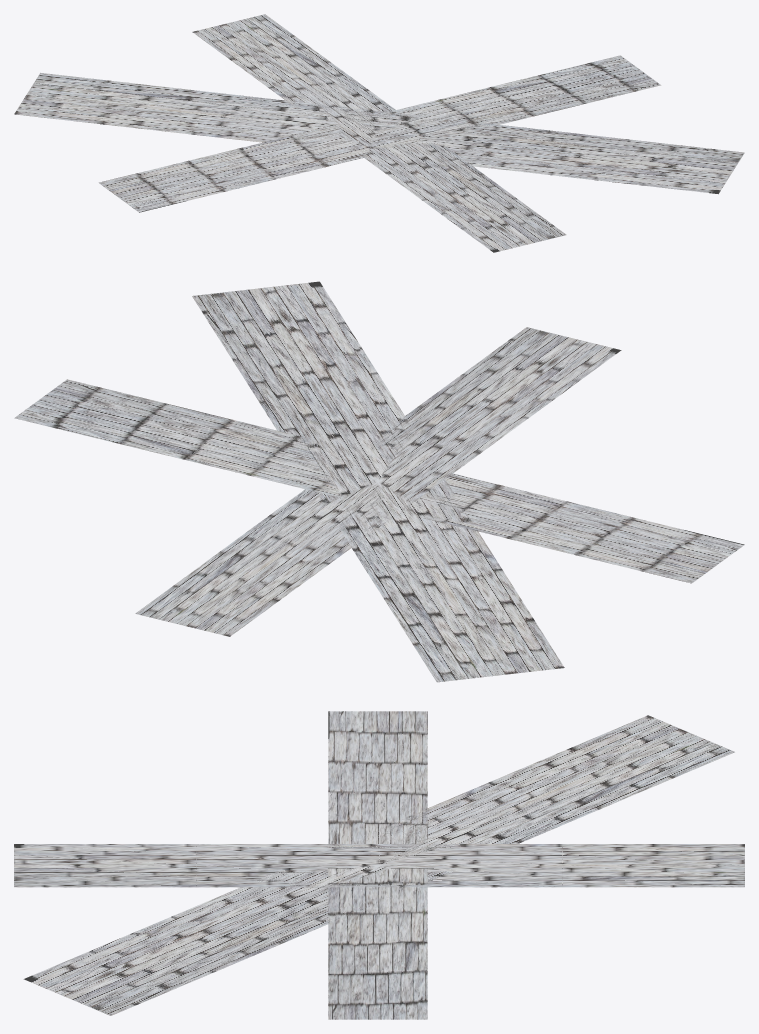
Rendered from pavimento.obj.
3 renders of one model, top to bottom at view 1: azimuth 30°, elevation 25°; view 2: azimuth 150°, elevation 25°; view 3: azimuth 270°, elevation 25°, orthographic. The views are drawn at different scales.
Visible parts, largest first — view 1: Plane004, Plane003, Plane002; view 2: Plane004, Plane002, Plane003; view 3: Plane004, Plane002, Plane003.
Part boxes in pixels (x1,y1,x2,y2): Plane004: [14, 72, 744, 194]; Plane003: [98, 55, 660, 212]; Plane002: [192, 14, 566, 252]; Plane004: [192, 281, 564, 682]; Plane002: [135, 327, 621, 636]; Plane003: [14, 379, 744, 583]; Plane004: [23, 715, 734, 1015]; Plane002: [14, 844, 744, 887]; Plane003: [328, 711, 427, 1019].
Bounding box in the file's own units: 139 × 0 × 139.
